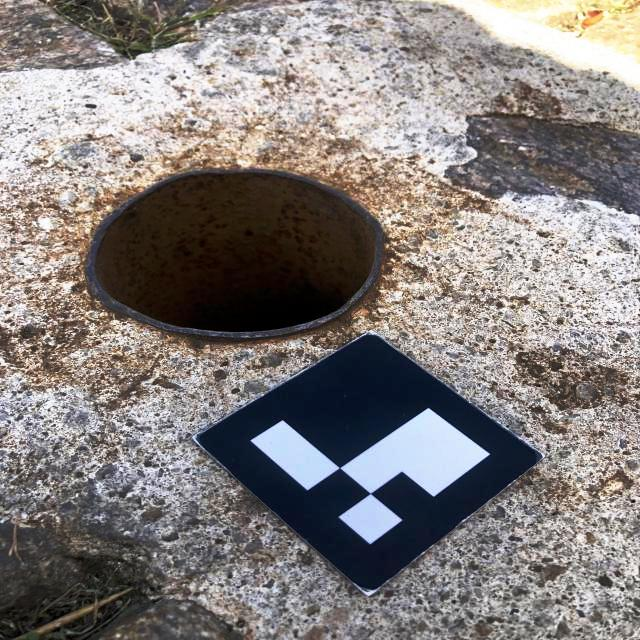Corrosion: (84, 169, 382, 341)
